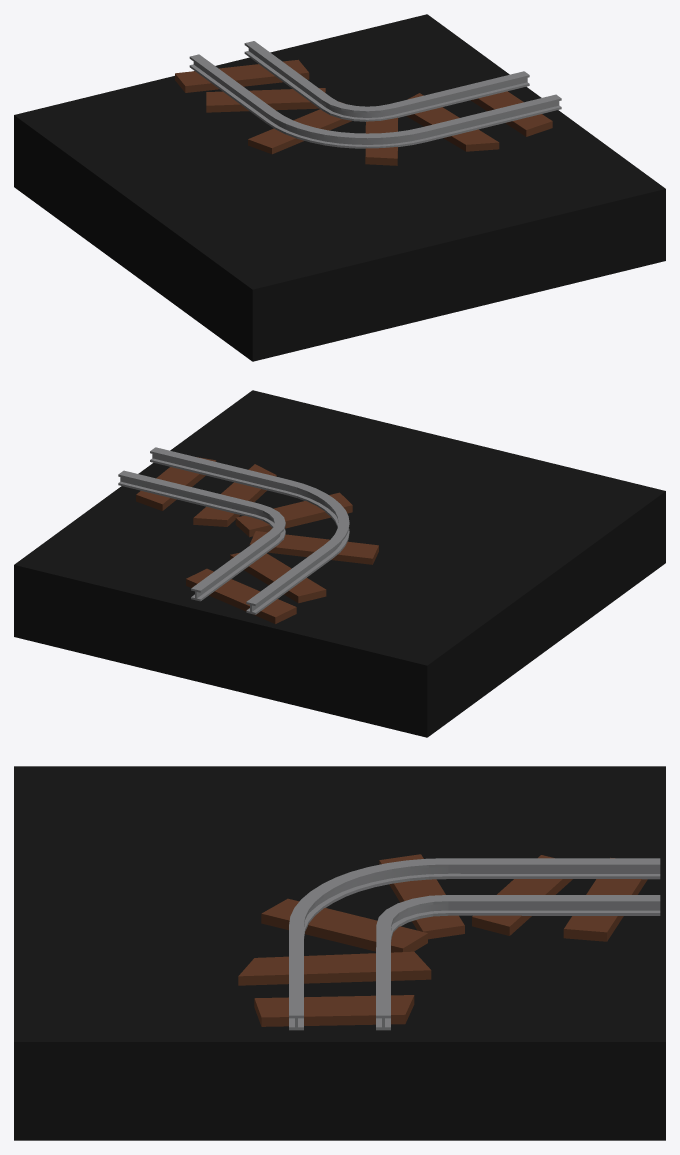
File: Turn_Node_1.fbx
3 renders of one model, top to bottom at view 1: azimuth 30°, elevation 25°; view 2: azimuth 150°, elevation 25°; view 3: azimuth 270°, elevation 25°, orthographic. The views are drawn at different scales.
Visible parts, largest first — view 1: Turn_Node_1_Ground, Turn_Node_1; view 2: Turn_Node_1_Ground, Turn_Node_1; view 3: Turn_Node_1_Ground, Turn_Node_1.
Boxes of the visible parts, box(x1,y1,x2,y2) form: Turn_Node_1_Ground: box(14, 14, 665, 361); Turn_Node_1: box(175, 41, 561, 165); Turn_Node_1_Ground: box(14, 390, 665, 737); Turn_Node_1: box(118, 447, 378, 623); Turn_Node_1_Ground: box(14, 766, 665, 1140); Turn_Node_1: box(238, 854, 660, 1030).
Bounding box in the file's own units: 118 × 24.48 × 118.
